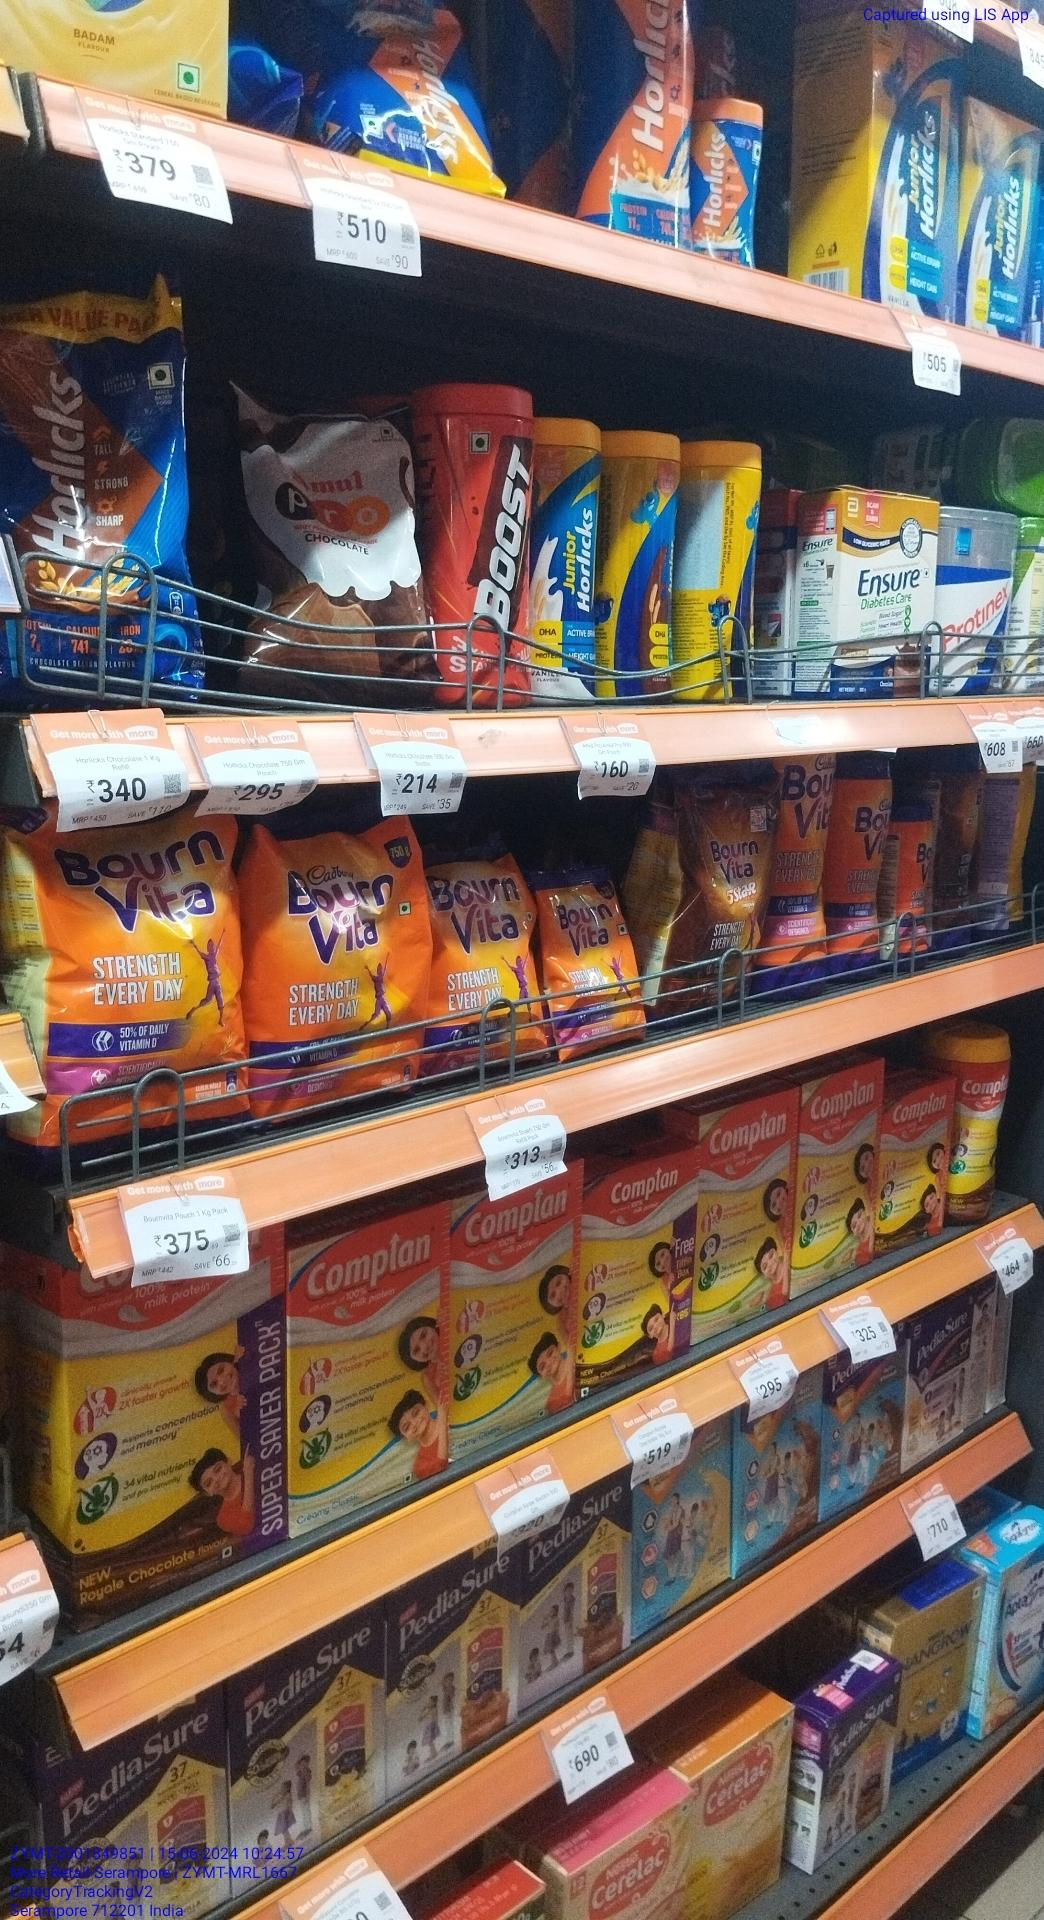BOURN_VITA_1_KG_POUCH: (21, 807, 242, 1163)
BOURN_VITA_500_G_POUCH: (429, 831, 539, 1062)
BOURN_VITA_750_G_POUCH: (248, 804, 428, 1112)
BOURN_VITA_FIVE_STAR_MAGIC_500_G_POUCH: (660, 778, 773, 1008)
COMPLAN_CHOCOLATE_1_KG_PACK: (68, 1239, 285, 1583)
COMPLAN_CHOCOLATE_200_GMS_PACK: (582, 1164, 692, 1364)
COMPLAN_CREAMY_CLASSIC_500_G_PACK: (287, 1229, 445, 1515), (450, 1175, 577, 1452)
HORLICKS_JUNIOR_VANILLA_500_GM_JAR: (530, 419, 599, 709)
HORLICK_CHOCOLATE_750_G_POUCH: (0, 281, 197, 672)
HORLICK_CLASSIC_MALT_200_G_JAR: (694, 94, 761, 267)
PROTINEX_ORIGINAL_400_G_JAR: (939, 506, 1014, 693)
